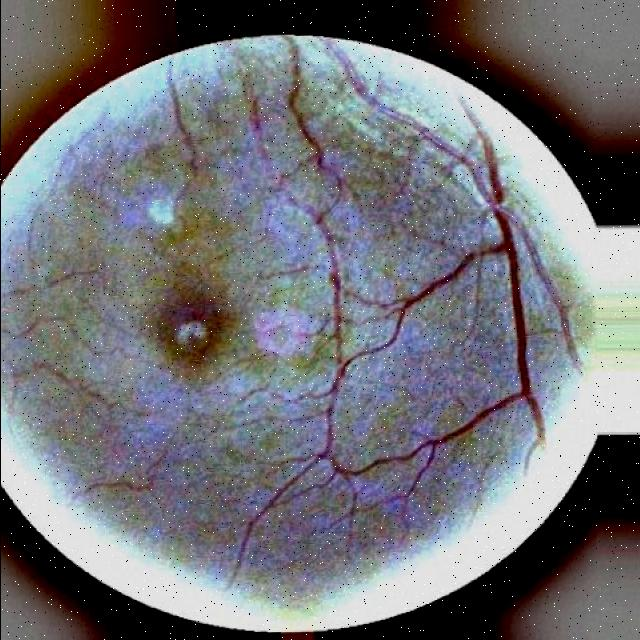Macula: (156, 300, 226, 364)
Nerves: (415, 128, 563, 459), (359, 232, 487, 371)
